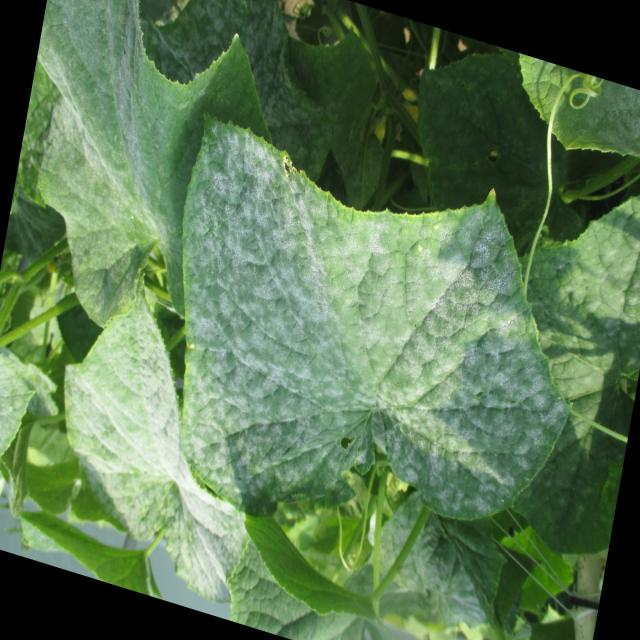Powdery Mildew: (179, 111, 570, 524)
